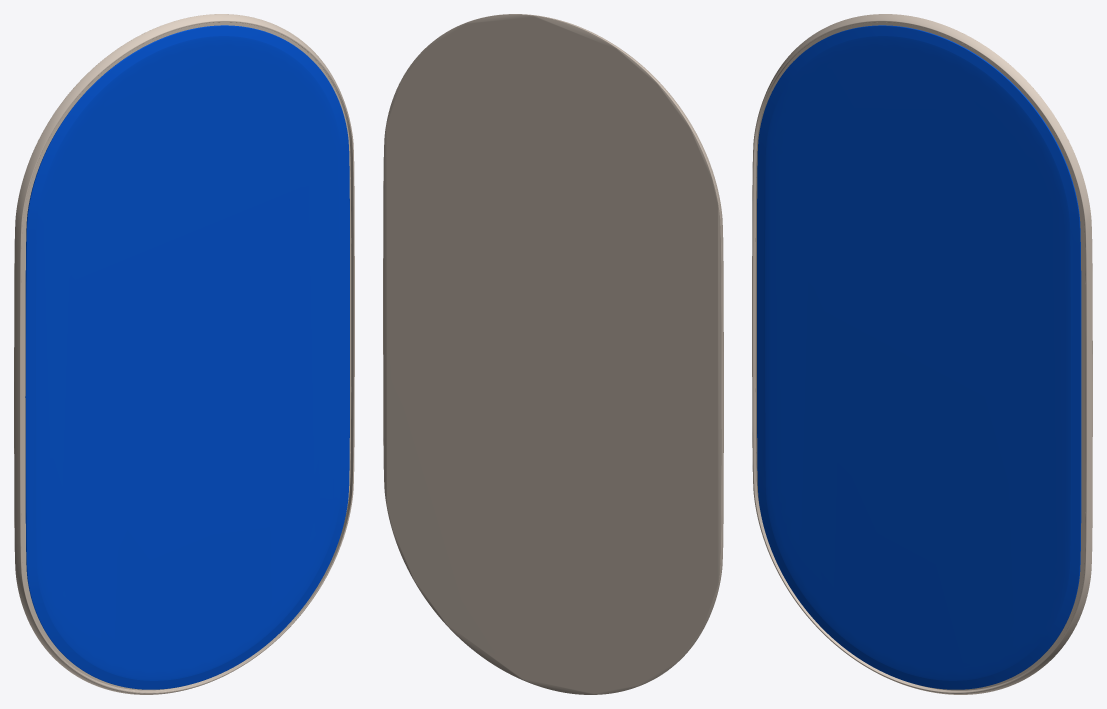
The model's file is ELYPSE-M.glb.
3 renders of one model, left to right at view 1: azimuth 30°, elevation 25°; view 2: azimuth 150°, elevation 25°; view 3: azimuth 330°, elevation 25°, orthographic.
Parts seen in each view (by area): view 1: Mirror, ELYPSE; view 2: ELYPSE; view 3: Mirror, ELYPSE.
Boxes of the visible parts, bbox=[...] form: Mirror: bbox=[25, 25, 349, 689]; ELYPSE: bbox=[14, 14, 354, 694]; ELYPSE: bbox=[383, 14, 723, 694]; Mirror: bbox=[757, 25, 1081, 689]; ELYPSE: bbox=[752, 14, 1092, 694].
Bounding box in the file's own units: 1.41 × 2.66 × 0.0417.
